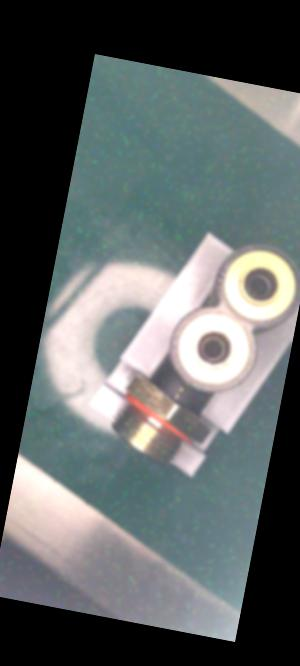craze: (170, 381, 188, 404)
